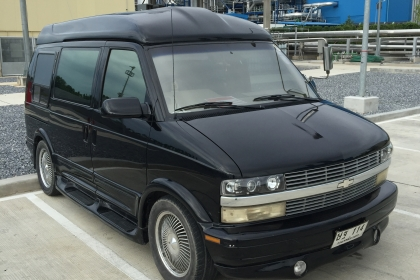van: (24, 7, 401, 280)
